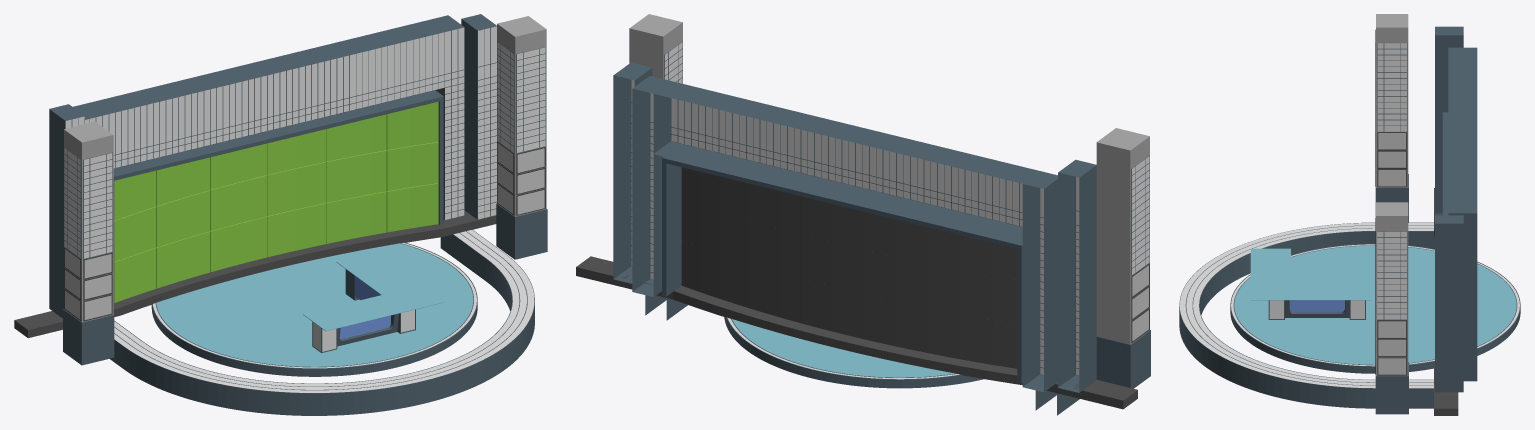
Rendered from zone_1.fbx.
3 views of the same model, side by side, from view 1: azimuth 30°, elevation 25°; view 2: azimuth 150°, elevation 25°; view 3: azimuth 270°, elevation 25° (orthographic). The views are drawn at different scales.
Visible parts, largest first — view 1: SM_floor_zone1, SM_ecran_zone1, SM_wall2_zone1, SM_column_zone1, SM_wall_zone1, SM_table_zone1, SM_TV1_zone1; view 2: SM_wall_zone1, SM_wall2_zone1, SM_floor_zone1, SM_column_zone1, SM_TV1_zone1; view 3: SM_floor_zone1, SM_column_zone1, SM_wall_zone1, SM_wall2_zone1, SM_table_zone1, SM_TV1_zone1.
Part boxes in pixels (x1,y1,x2,y2): SM_floor_zone1: [14, 211, 534, 415]; SM_ecran_zone1: [114, 101, 438, 302]; SM_wall2_zone1: [73, 15, 464, 220]; SM_column_zone1: [63, 16, 547, 365]; SM_wall_zone1: [49, 14, 496, 318]; SM_table_zone1: [303, 252, 443, 352]; SM_TV1_zone1: [64, 141, 545, 321]; SM_wall_zone1: [613, 62, 1096, 392]; SM_wall2_zone1: [632, 76, 1057, 392]; SM_floor_zone1: [576, 256, 1137, 415]; SM_column_zone1: [629, 14, 1150, 388]; SM_TV1_zone1: [1131, 263, 1149, 343]; SM_floor_zone1: [1179, 188, 1520, 415]; SM_column_zone1: [1375, 14, 1408, 414]; SM_wall_zone1: [1435, 26, 1463, 392]; SM_wall2_zone1: [1448, 47, 1477, 381]; SM_table_zone1: [1250, 248, 1371, 319]; SM_TV1_zone1: [1375, 131, 1407, 375].
Bounding box in the file's own units: 1289 × 574 × 843.
